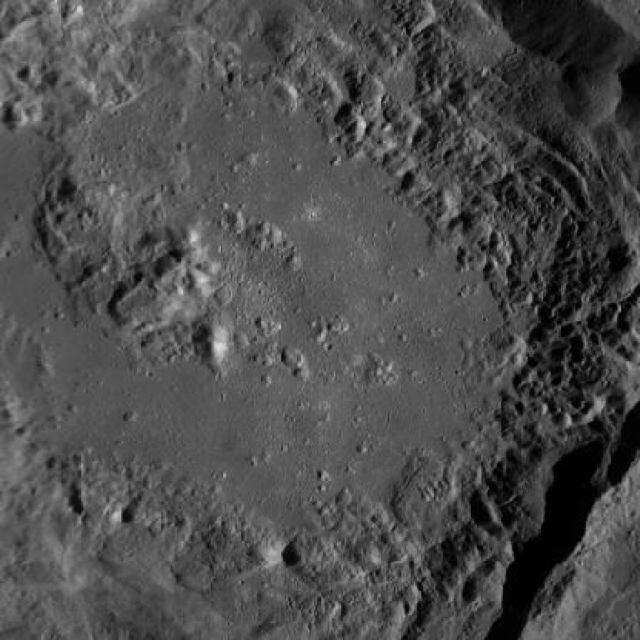crater: (266, 540, 299, 571), (0, 0, 2, 2)
